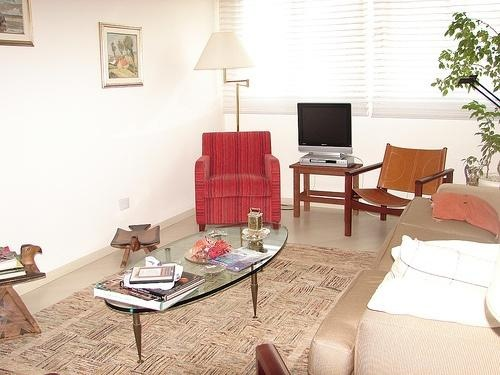chair: (344, 143, 454, 238), (196, 131, 284, 233)
pottedplant: (432, 12, 500, 174)
sofa: (308, 184, 500, 375)
tvmonitor: (297, 103, 353, 154)
